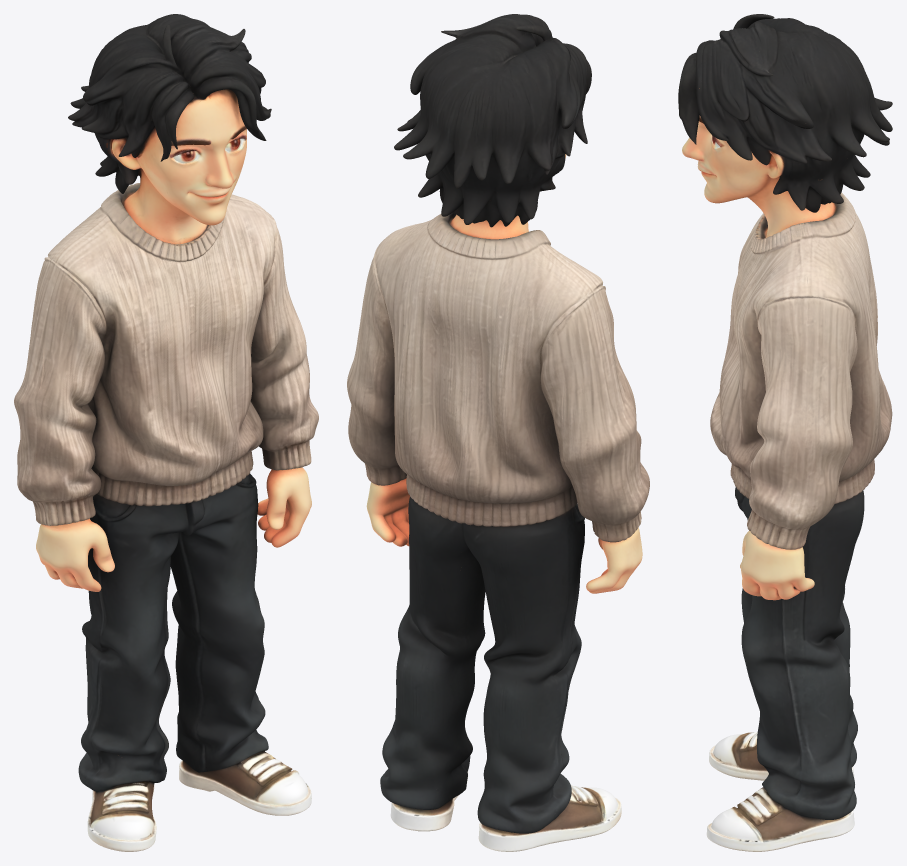
Rendered from base_basic_shaded.glb.
The picture shows the model from 3 angles, left to right: view 1: azimuth 30°, elevation 25°; view 2: azimuth 150°, elevation 25°; view 3: azimuth 270°, elevation 25°; orthographic projection.
Visible parts, largest first — view 1: model; view 2: model; view 3: model.
Boxes of the visible parts, bbox=[...] form: model: bbox=[14, 14, 318, 851]; model: bbox=[347, 14, 649, 851]; model: bbox=[678, 14, 892, 851].
Size of the model in its own units: 0.7291 by 1.9 by 0.475.
Materials: 1 (1 with a texture image).
